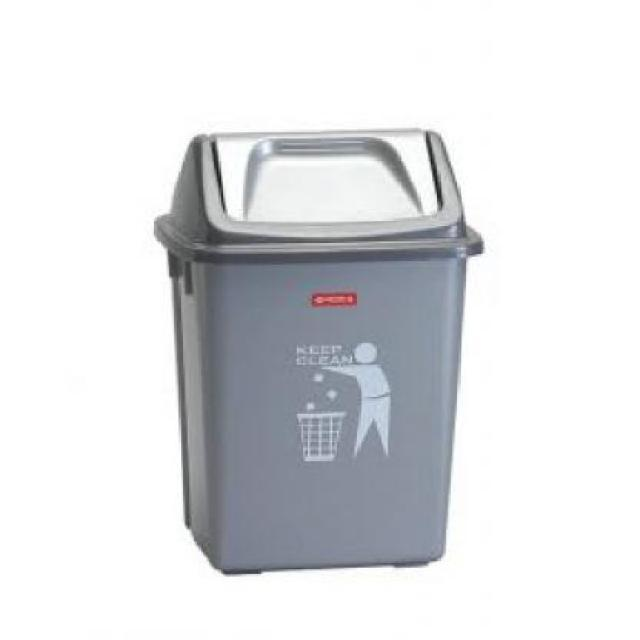garbage container: (146, 121, 506, 604)
